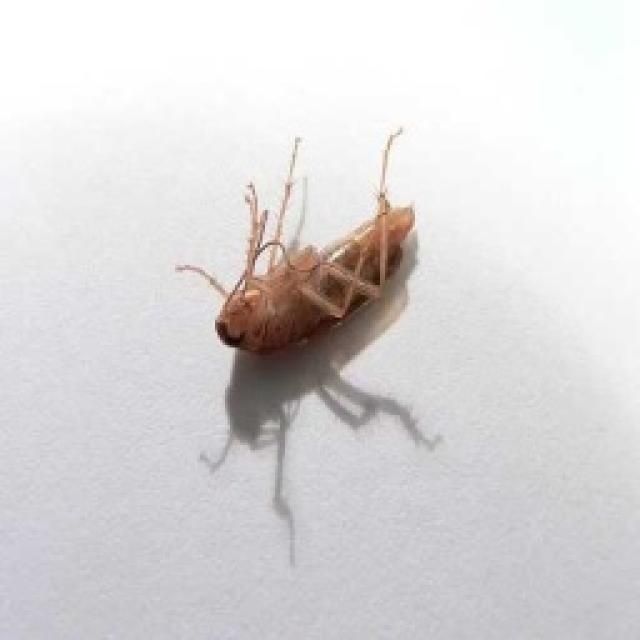cockroach: (189, 121, 447, 395)
